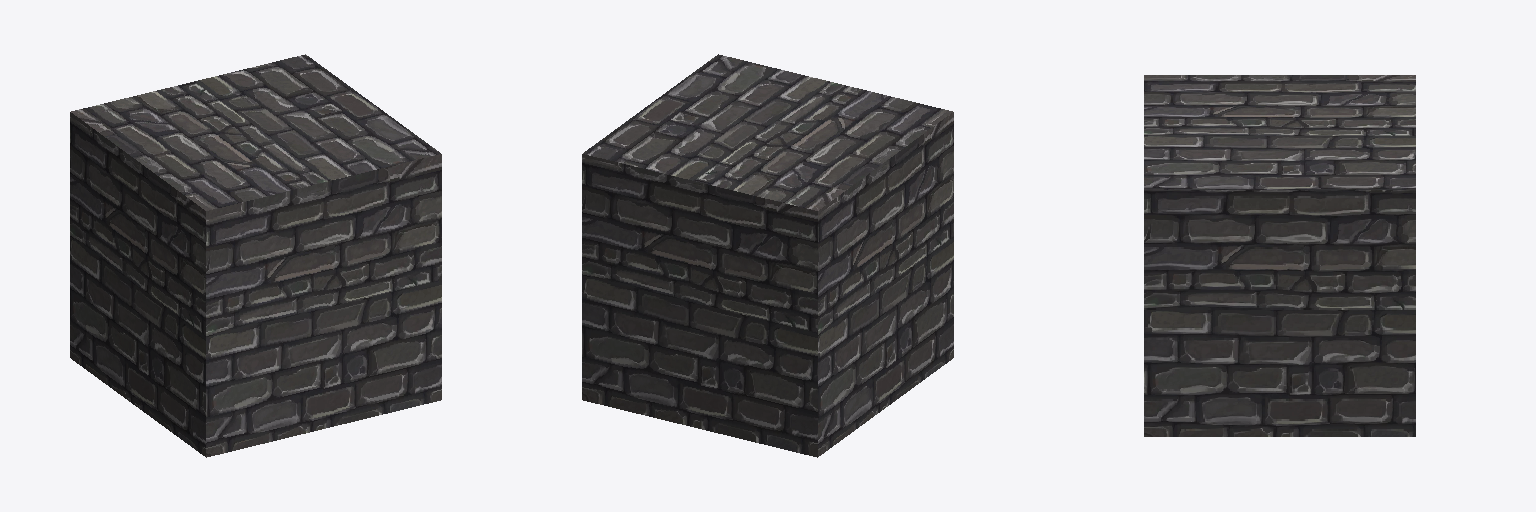
3 renders of one model, left to right at view 1: azimuth 30°, elevation 25°; view 2: azimuth 150°, elevation 25°; view 3: azimuth 270°, elevation 25°, orthographic.
Parts seen in each view (by area): view 1: Cube; view 2: Cube; view 3: Cube.
Part boxes in pixels (bbox=[...]): Cube: bbox=[70, 54, 441, 457]; Cube: bbox=[582, 54, 953, 457]; Cube: bbox=[1144, 75, 1415, 436].
Size of the model in its own units: 2 by 2 by 2.
1 materials, 1 textured.